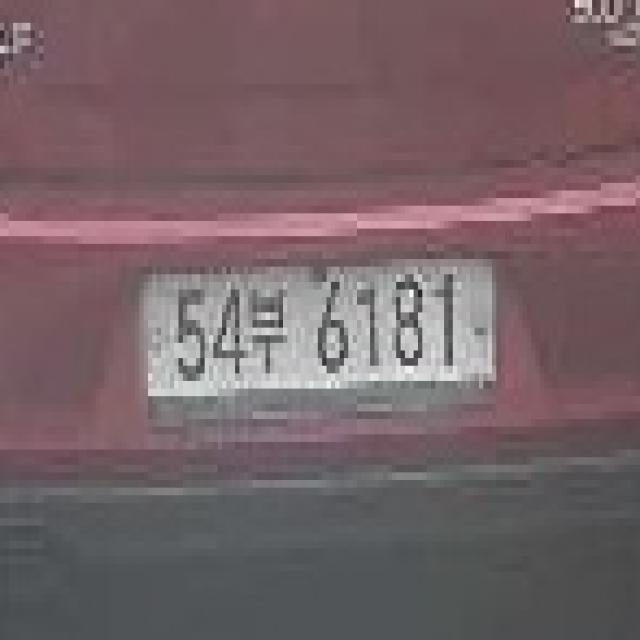1: (427, 259, 452, 366), (357, 282, 387, 366)
4: (213, 274, 244, 381)
5: (170, 289, 209, 381)
6: (305, 267, 348, 381)
8: (392, 267, 427, 373)
bu: (244, 259, 296, 373)
license_plate: (135, 229, 505, 419)
